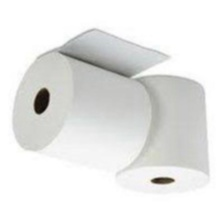tissue: (7, 24, 178, 181), (110, 70, 216, 201)
